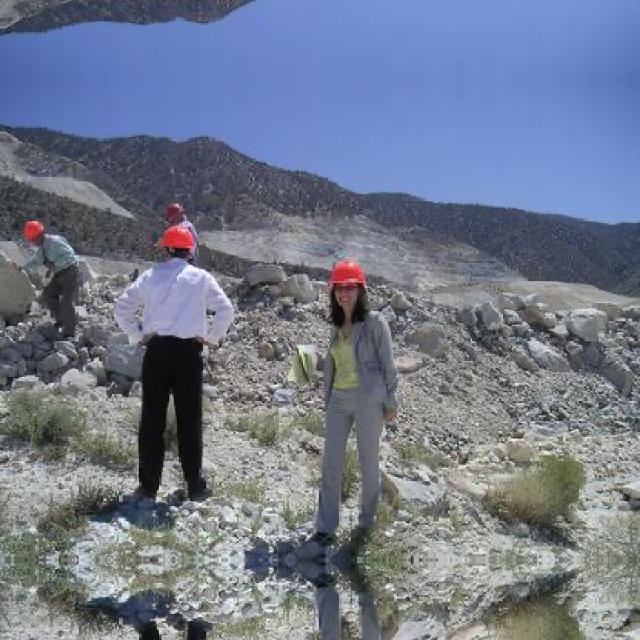2: (297, 260, 400, 542), (128, 229, 234, 502), (20, 215, 88, 337), (297, 578, 401, 638)
helmet: (329, 262, 369, 309), (160, 226, 195, 260), (25, 218, 46, 244), (166, 203, 183, 226)
